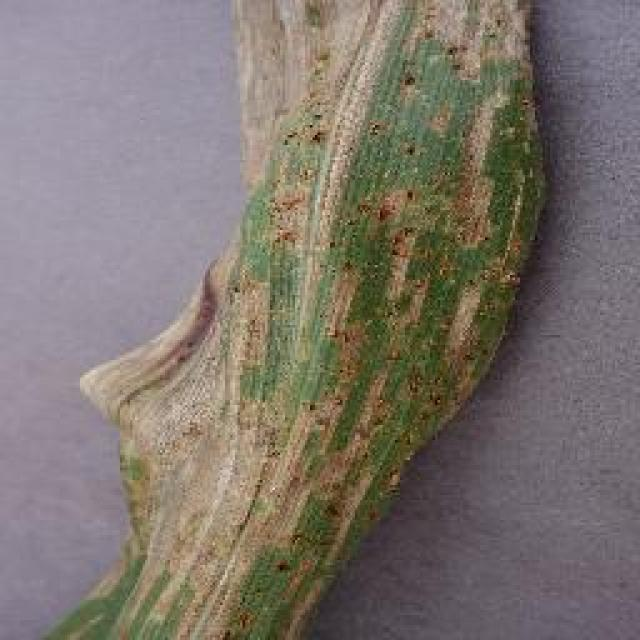Corn___Northern_Leaf_Blight: (0, 0, 568, 638)
